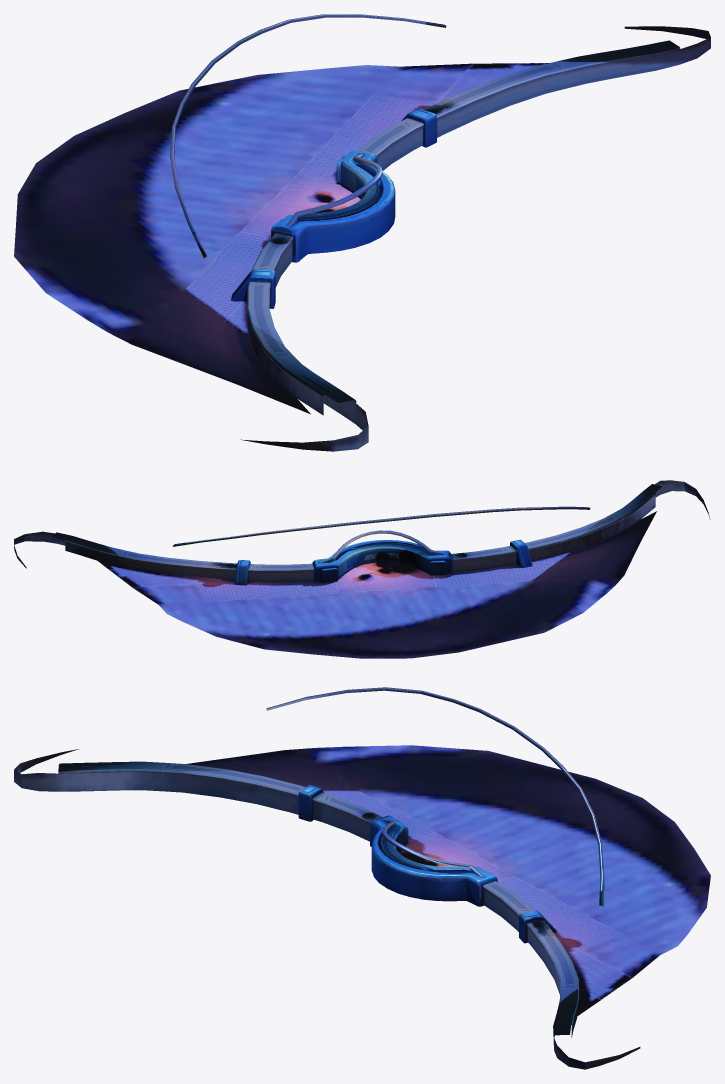
The model's file is pref_sm_4v4beachtech_WSJ_bk_centerblock_R01c_lv2.fbx.
The picture shows the model from 3 angles, top to bottom: view 1: azimuth 30°, elevation 25°; view 2: azimuth 150°, elevation 25°; view 3: azimuth 270°, elevation 25°; orthographic projection. The views are drawn at different scales.
Parts seen in each view (by area): view 1: pref_sm_4v4beachtech_WSJ_bk_centerblock_R01c_lv2; view 2: pref_sm_4v4beachtech_WSJ_bk_centerblock_R01c_lv2; view 3: pref_sm_4v4beachtech_WSJ_bk_centerblock_R01c_lv2.
Boxes of the visible parts, x1,y1,x2,y2 form: pref_sm_4v4beachtech_WSJ_bk_centerblock_R01c_lv2: (14, 14, 710, 451); pref_sm_4v4beachtech_WSJ_bk_centerblock_R01c_lv2: (14, 480, 710, 658); pref_sm_4v4beachtech_WSJ_bk_centerblock_R01c_lv2: (14, 687, 710, 1069).
Bounding box in the file's own units: 37.05 × 6.62 × 34.33.
1 material, 1 textured.
